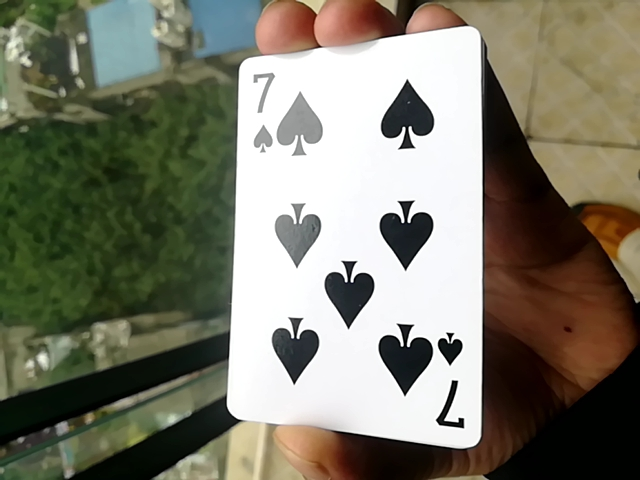ht 7: (236, 18, 472, 460)
